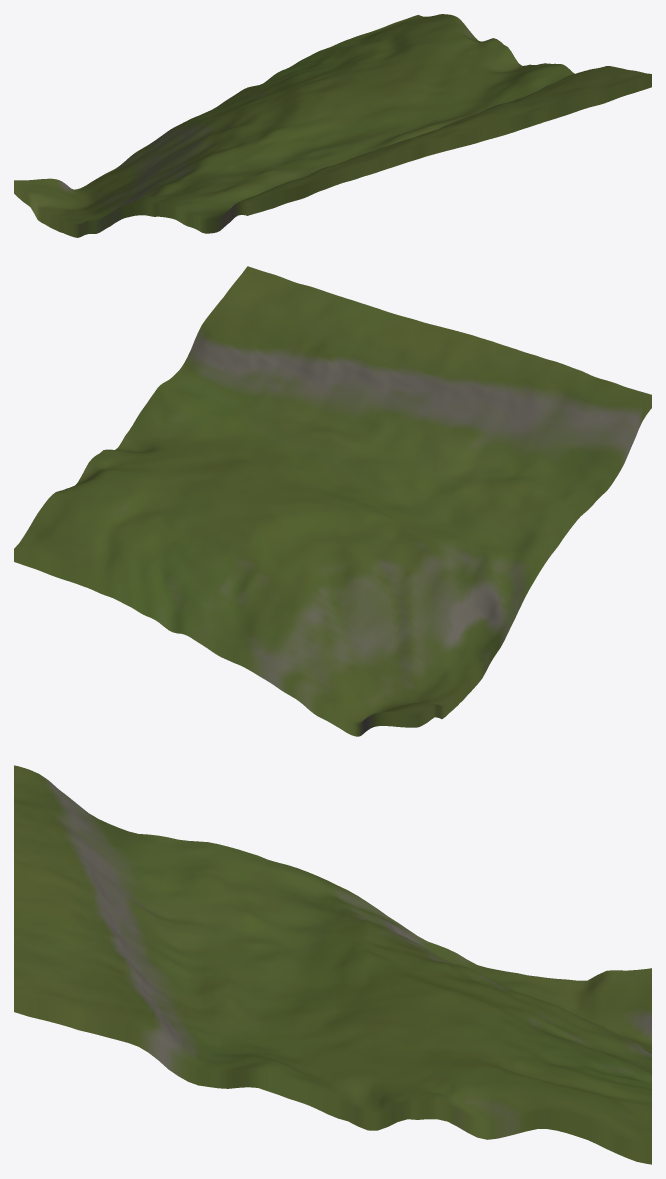
The model's file is terrain_3_-3.glb.
3 renders of one model, top to bottom at view 1: azimuth 30°, elevation 25°; view 2: azimuth 150°, elevation 25°; view 3: azimuth 270°, elevation 25°, orthographic. The views are drawn at different scales.
Parts seen in each view (by area): view 1: terrain_3_-3; view 2: terrain_3_-3; view 3: terrain_3_-3.
Boxes of the visible parts, box(x1,y1,x2,y2) form: terrain_3_-3: box(14, 14, 651, 237); terrain_3_-3: box(14, 266, 651, 736); terrain_3_-3: box(14, 765, 651, 1164).
Size of the model in its own units: 256 by 131 by 256.
